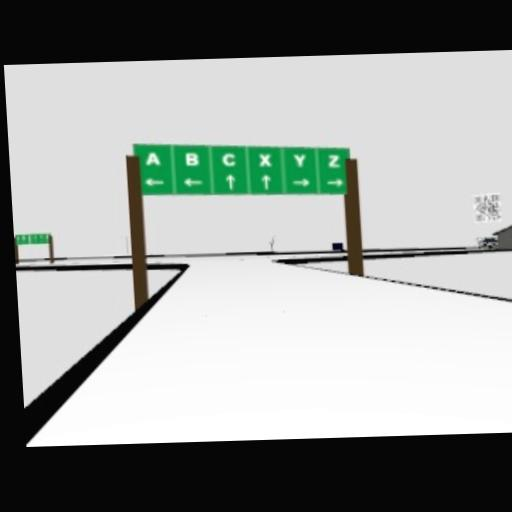A: (144, 151, 162, 167)
B: (184, 151, 200, 168)
C: (221, 152, 236, 167)
Left: (181, 177, 203, 186), (144, 177, 164, 186)
Right: (291, 178, 310, 187), (325, 178, 342, 187)
Straight: (225, 173, 236, 190), (260, 174, 271, 189)
X: (258, 153, 272, 168)
Y: (294, 153, 306, 168)
Z: (327, 154, 341, 169)
